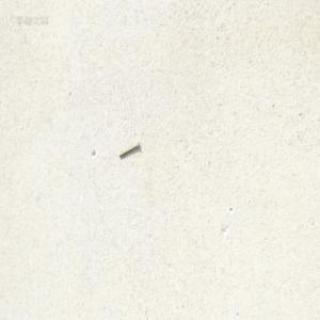Bolttrack_idkeyframe: (117, 140, 139, 157)
